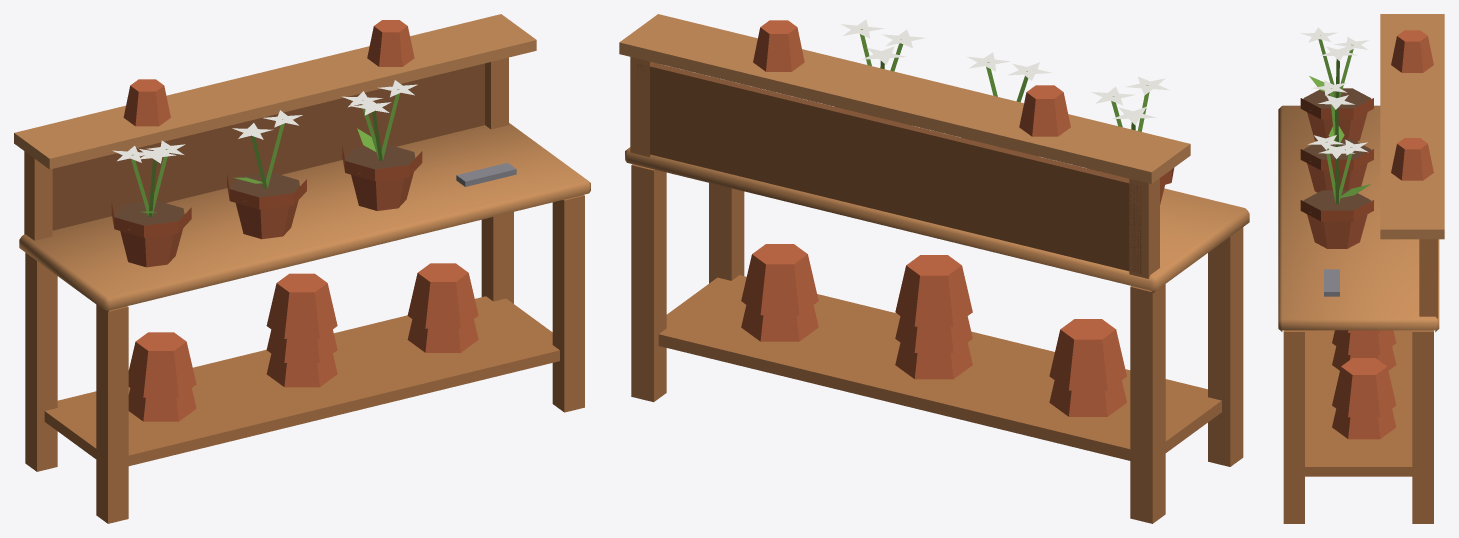
The model's file is potting_bench.glb.
3 views of the same model, side by side, from view 1: azimuth 30°, elevation 25°; view 2: azimuth 150°, elevation 25°; view 3: azimuth 270°, elevation 25° (orthographic). The views are drawn at different scales.
Visible parts, largest first — view 1: potting_bench; view 2: potting_bench; view 3: potting_bench.
Part boxes in pixels (x1,y1,x2,y2): potting_bench: (14, 14, 590, 523); potting_bench: (619, 14, 1249, 523); potting_bench: (1278, 14, 1444, 523).
Bounding box in the file's own units: 1.9 × 1.34 × 0.62.
Materials: 1 (1 with a texture image).
